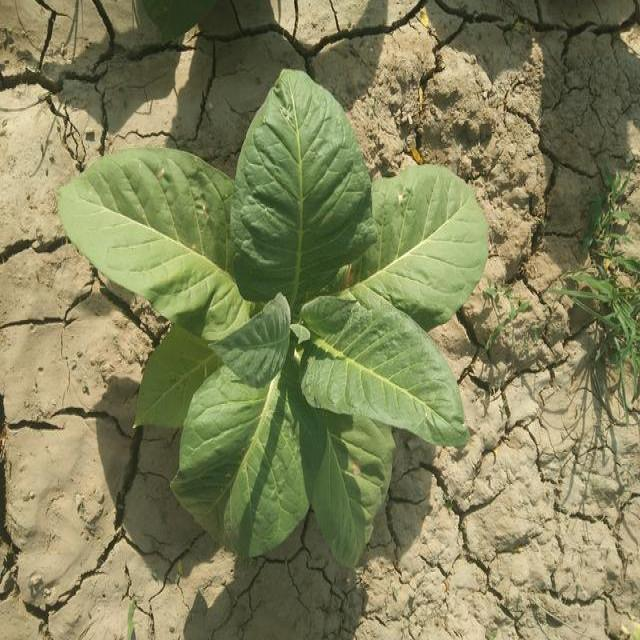crop: (52, 52, 496, 587)
